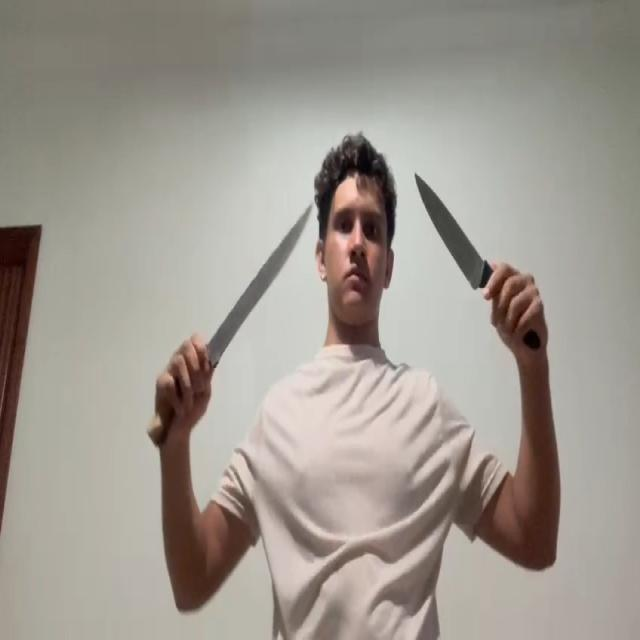knife: (207, 201, 313, 362), (415, 174, 480, 290)
